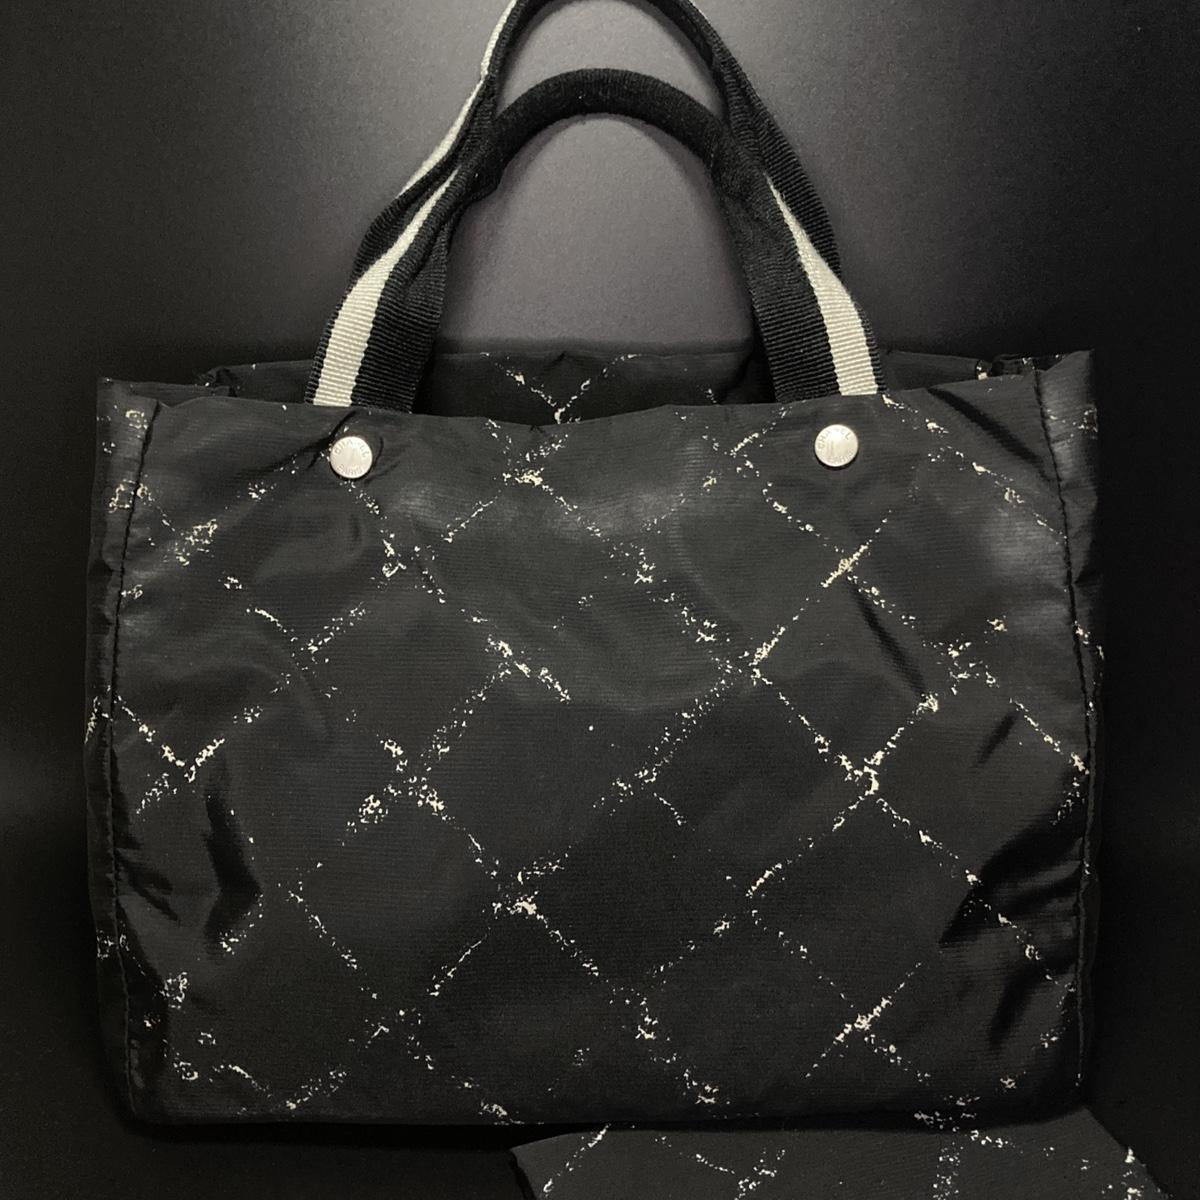channel: (47, 285, 1135, 1168)
